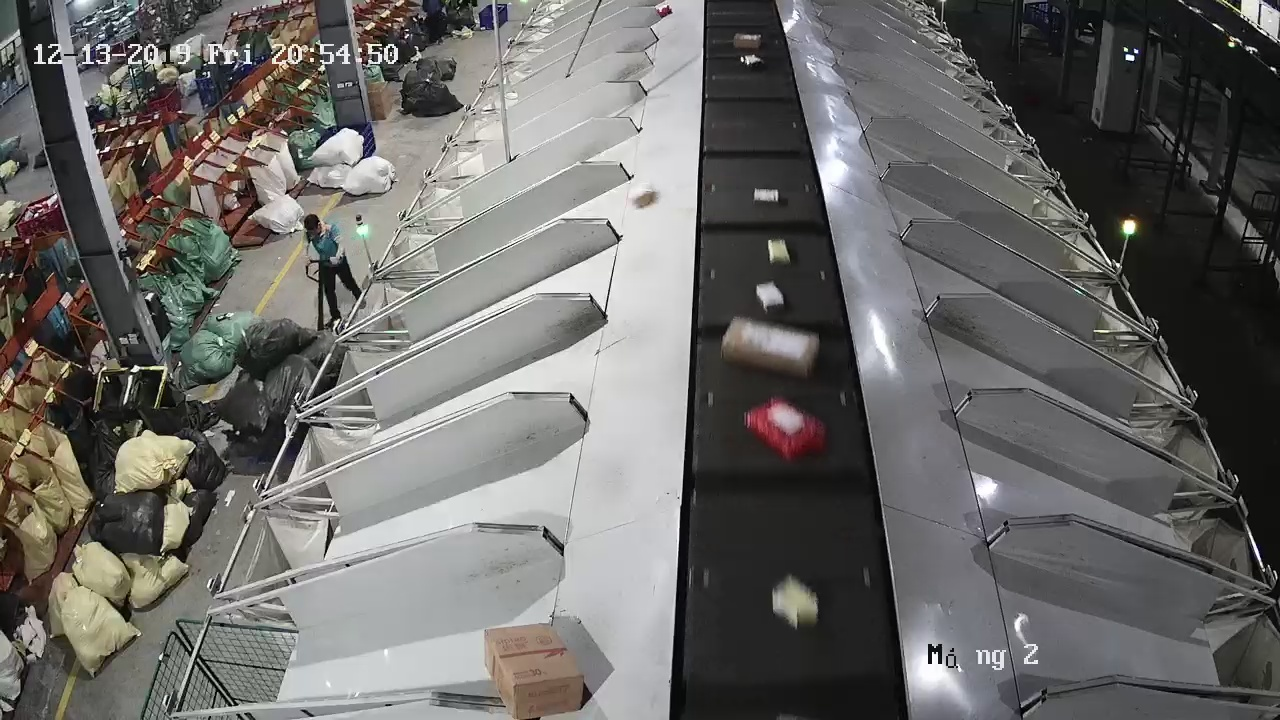parcel: (627, 181, 655, 209)
